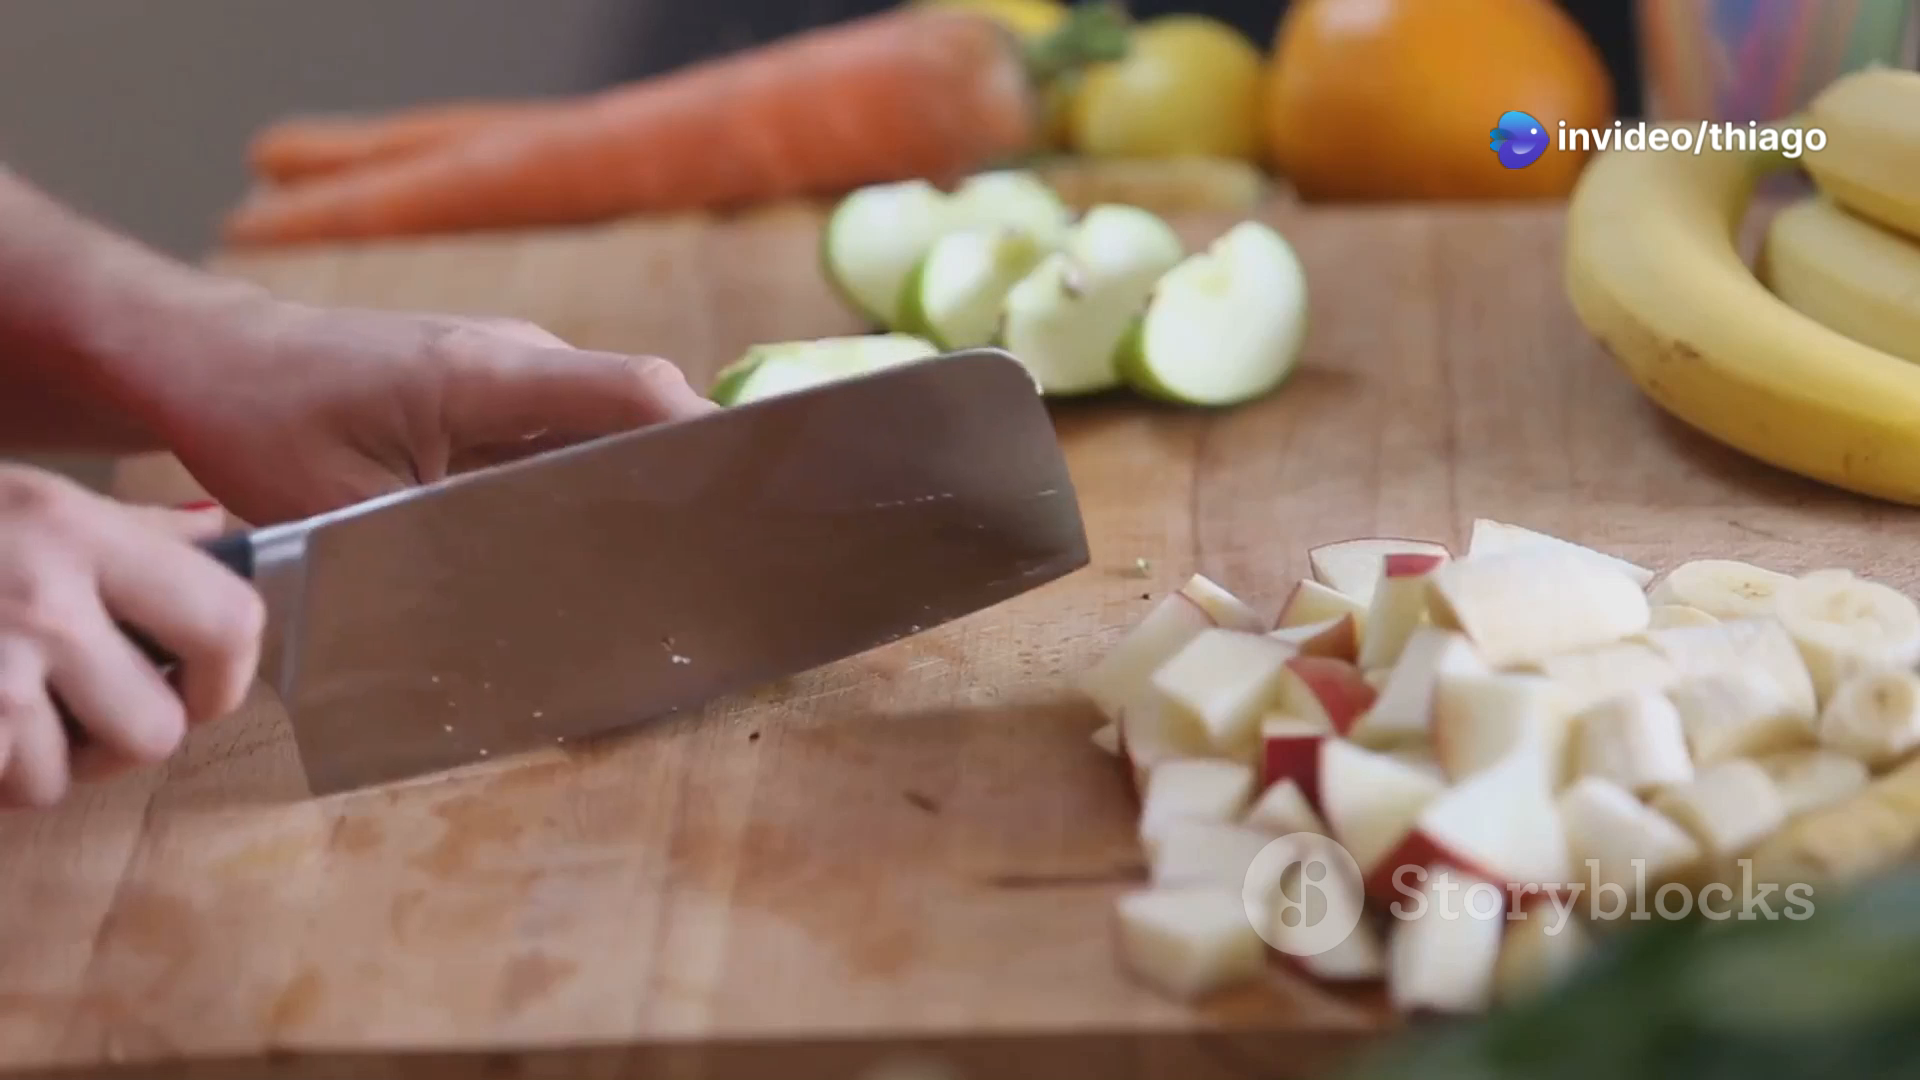cortante: (244, 348, 1092, 798)
